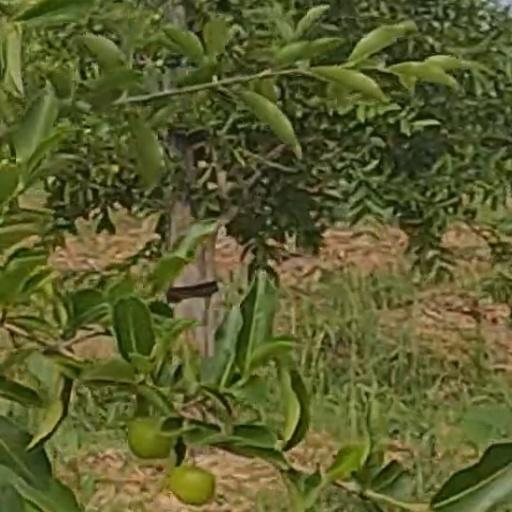acerola: (125, 415, 169, 456), (172, 467, 215, 505)
